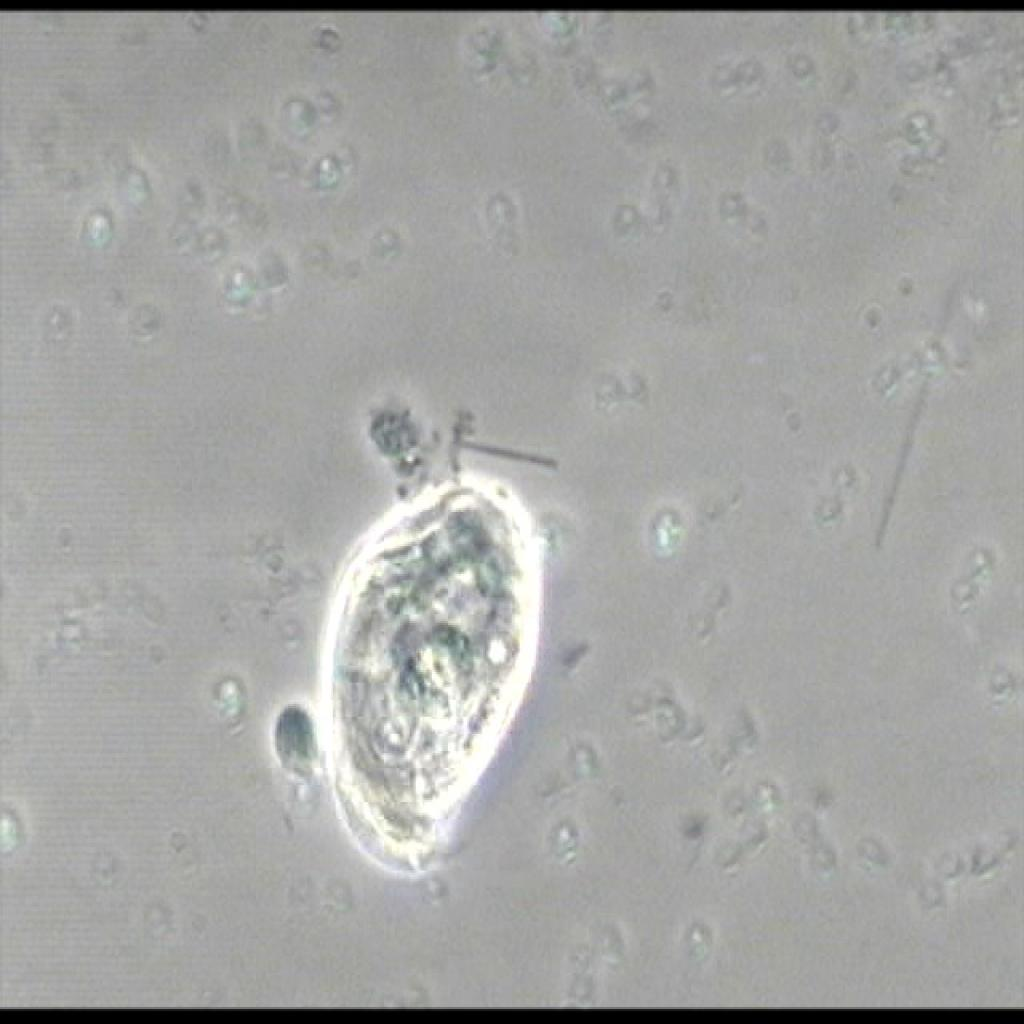Chilodonella: (280, 463, 558, 883)
